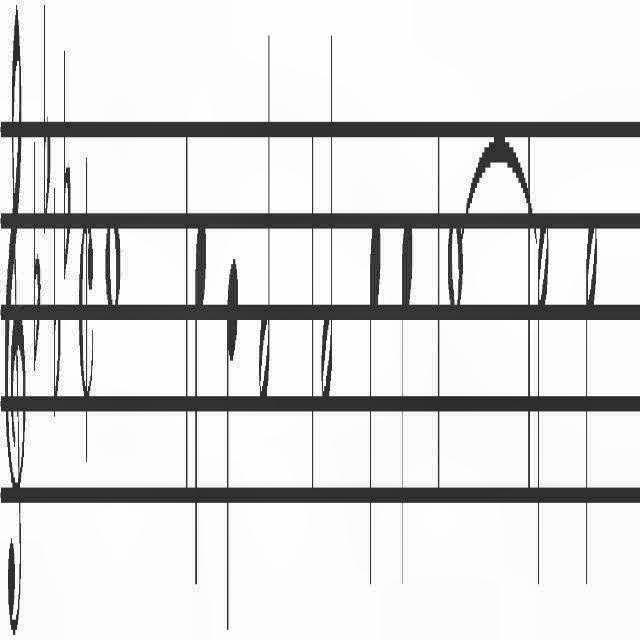Bass-clef: (0, 15, 32, 640)
Bemol: (38, 0, 54, 276), (29, 139, 43, 415), (50, 168, 61, 468), (60, 28, 72, 290)
Full-note: (446, 173, 464, 343), (106, 178, 120, 374)
Half-note: (253, 0, 277, 490), (582, 178, 602, 562), (319, 28, 337, 426), (534, 177, 550, 598)
Quarter-note: (220, 216, 248, 640), (364, 172, 384, 588), (397, 190, 415, 622), (192, 212, 210, 574)
